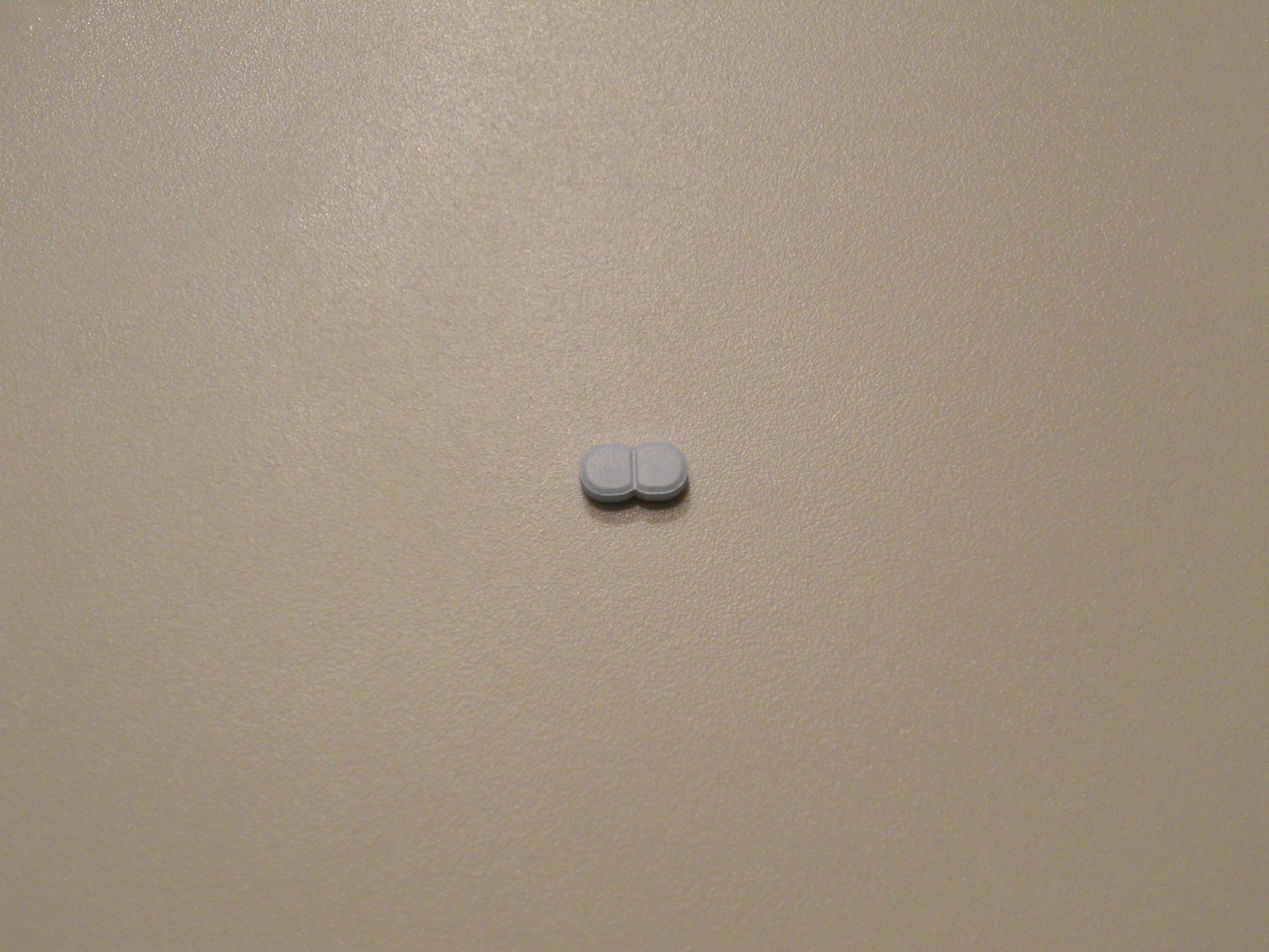Pill: (566, 420, 700, 521)
